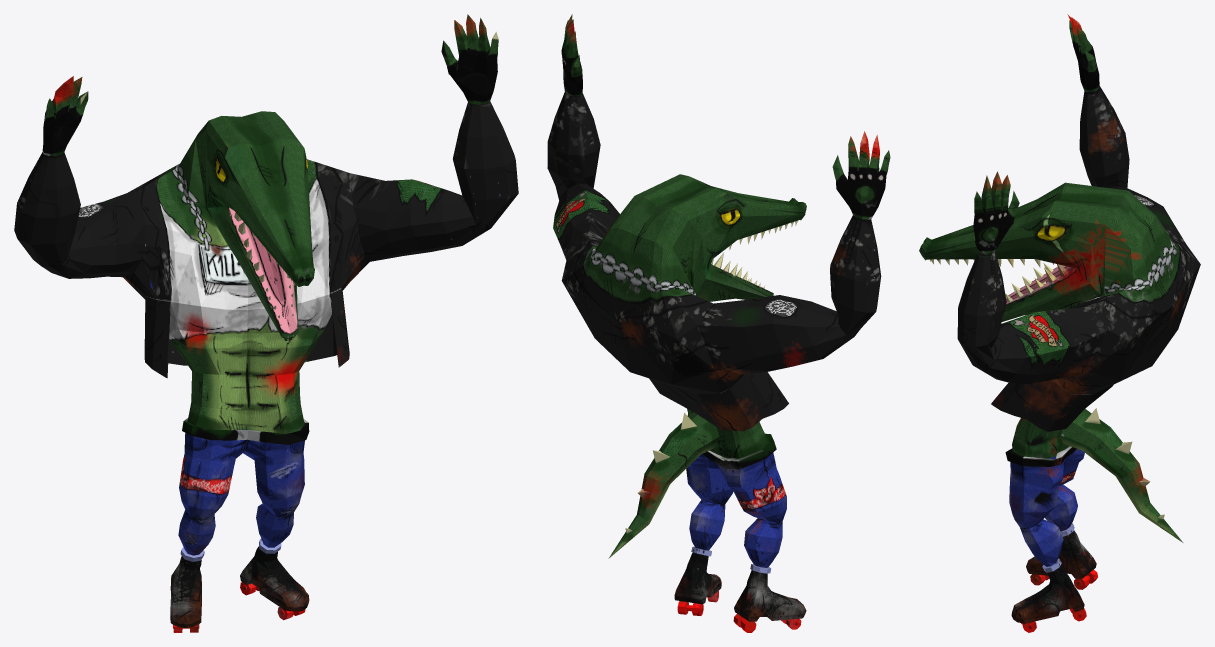
The model's file is cocodrilaBonesSelect_000007.obj.
3 renders of one model, left to right at view 1: azimuth 30°, elevation 25°; view 2: azimuth 150°, elevation 25°; view 3: azimuth 270°, elevation 25°, orthographic. The views are drawn at different scales.
Visible parts, largest first — view 1: Crocodile.002_Cylinder.002; view 2: Crocodile.002_Cylinder.002; view 3: Crocodile.002_Cylinder.002.
Boxes of the visible parts, x1,y1,x2,y2 form: Crocodile.002_Cylinder.002: (14, 14, 518, 632); Crocodile.002_Cylinder.002: (547, 14, 890, 632); Crocodile.002_Cylinder.002: (919, 14, 1200, 632).
Bounding box in the file's own units: 6.13 × 7.92 × 3.82.
